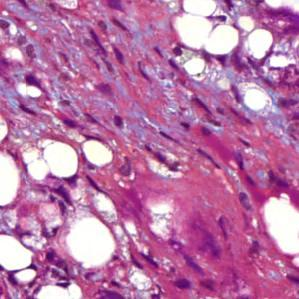steatosis: (41, 139, 81, 179)
